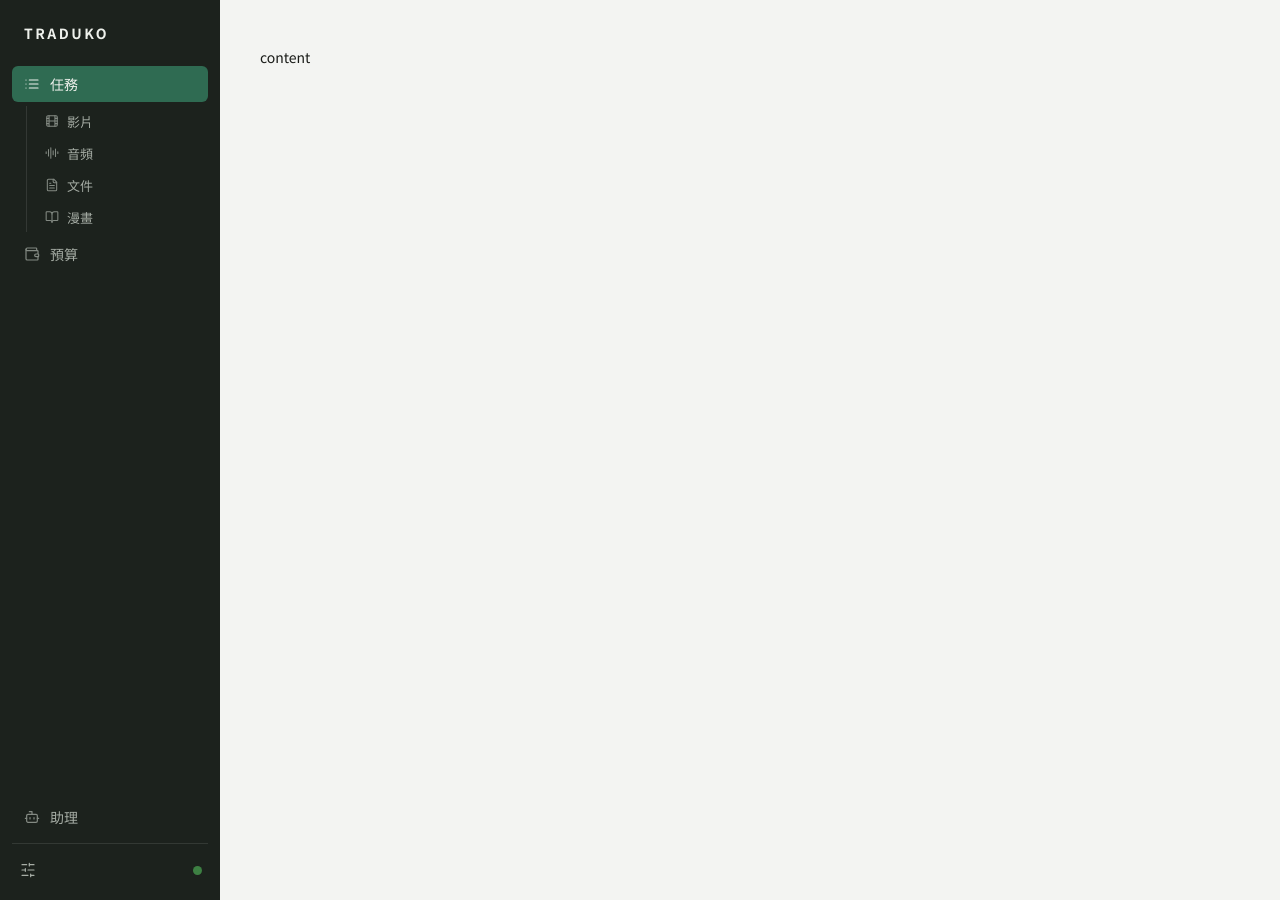
reopening the assistant panel keeps previously loaded messages
The width and height of the screenshot is (1280, 900).
What coordinates should you click on to do the following:
click the button "助理"
I would click on:
 (110, 817)
Its box is [12,799,208,835].
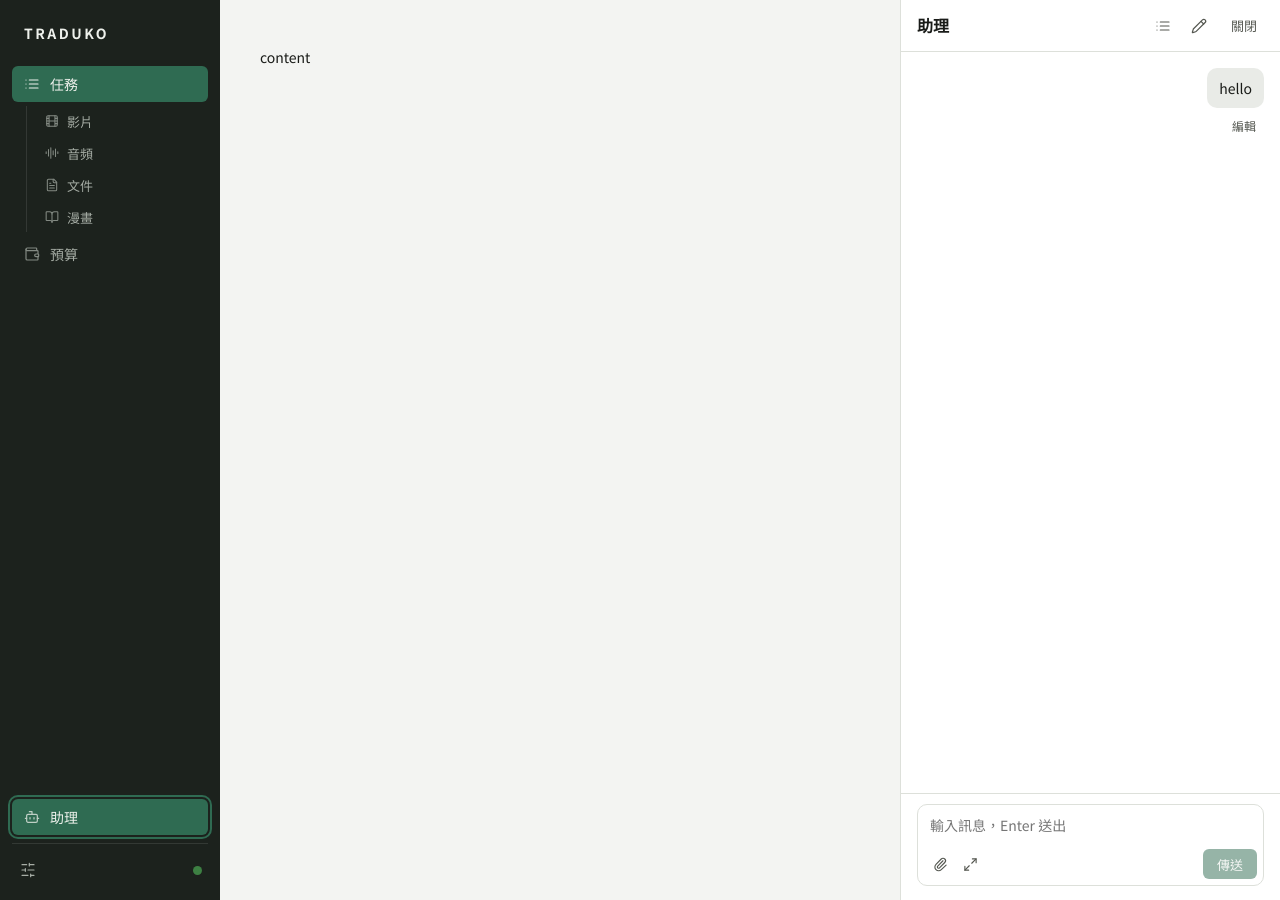
Expected: the text "hello" is shown, [1207,68,1264,108]
What coordinates should you click on to do the following:
click the button "助理"
I would click on:
 (110, 817)
Its box is [12,799,208,835].
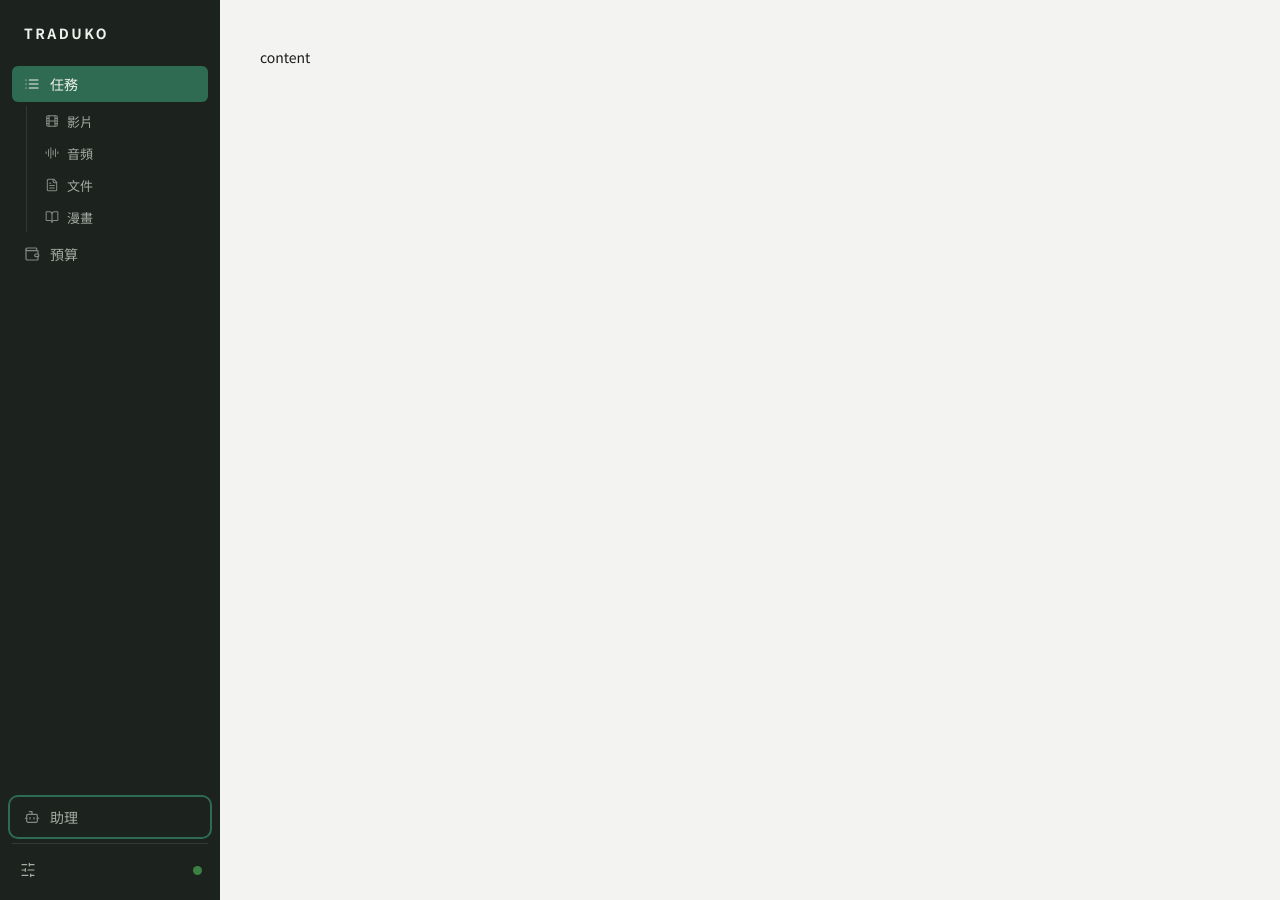
Expected: the text "hello" is gone
What coordinates should you click on to do the following:
click the button "助理"
I would click on:
 (110, 817)
Its box is [12,799,208,835].
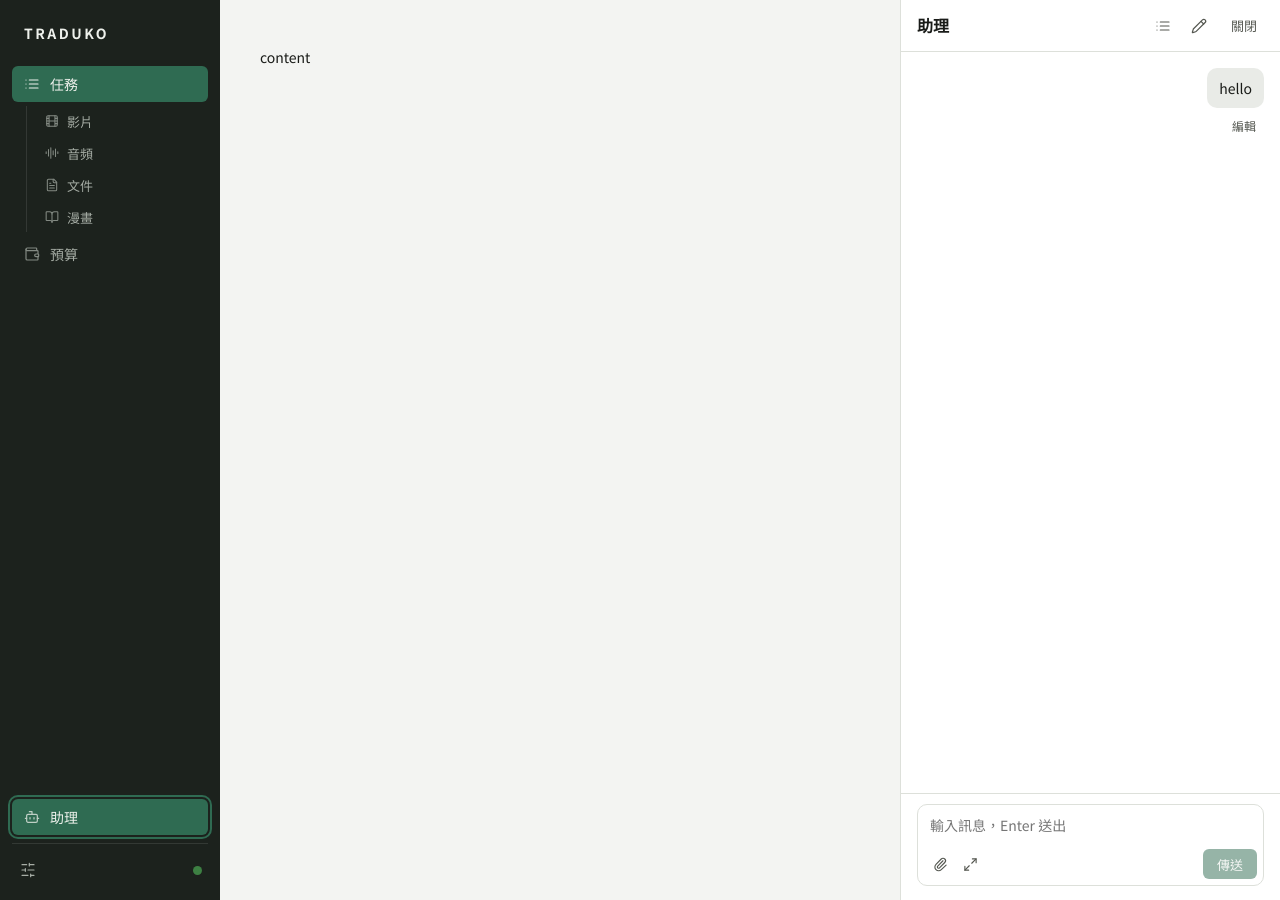
Expected: the text "hello" is shown, [1207,68,1264,108]
